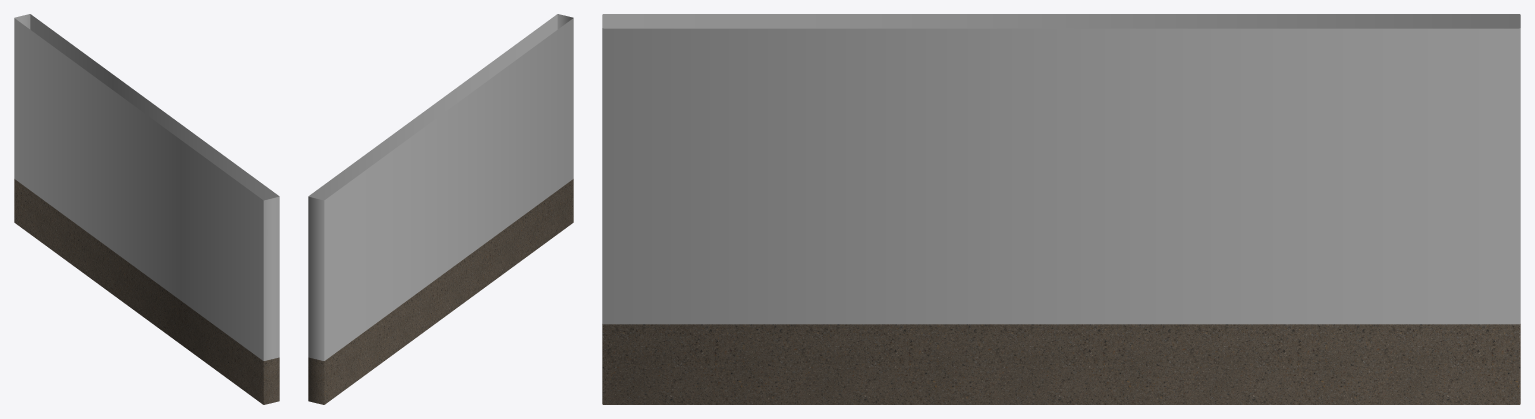
The model's file is Wall_08.fbx.
The picture shows the model from 3 angles, left to right: view 1: azimuth 30°, elevation 25°; view 2: azimuth 150°, elevation 25°; view 3: azimuth 270°, elevation 25°; orthographic projection. The views are drawn at different scales.
Visible parts, largest first — view 1: Wall_08; view 2: Wall_08; view 3: Wall_08.
Boxes of the visible parts, x1,y1,x2,y2 form: Wall_08: (14, 14, 279, 404); Wall_08: (308, 14, 573, 404); Wall_08: (602, 14, 1520, 404).
Size of the model in its own units: 0.3 by 3.62 by 8.
